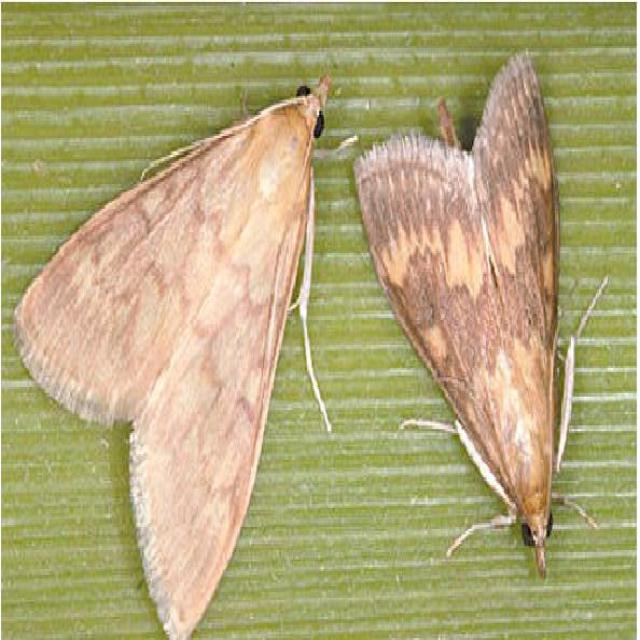yellow-stem-borer: (18, 25, 633, 637)
